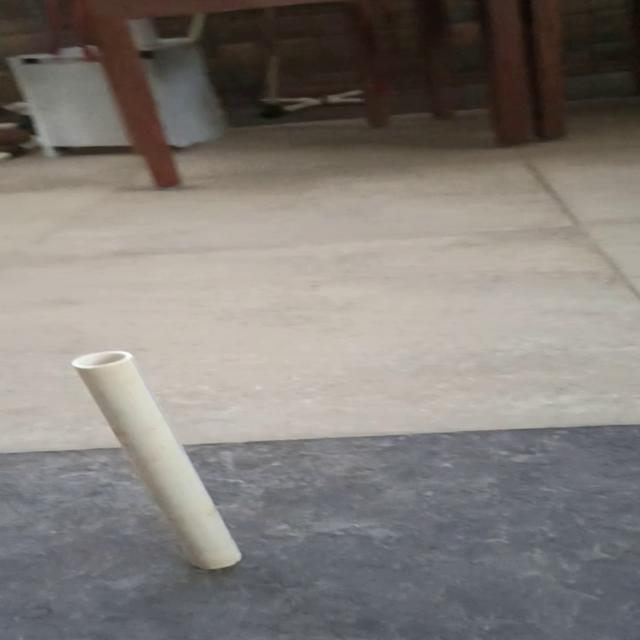Cube: (68, 349, 244, 570)
